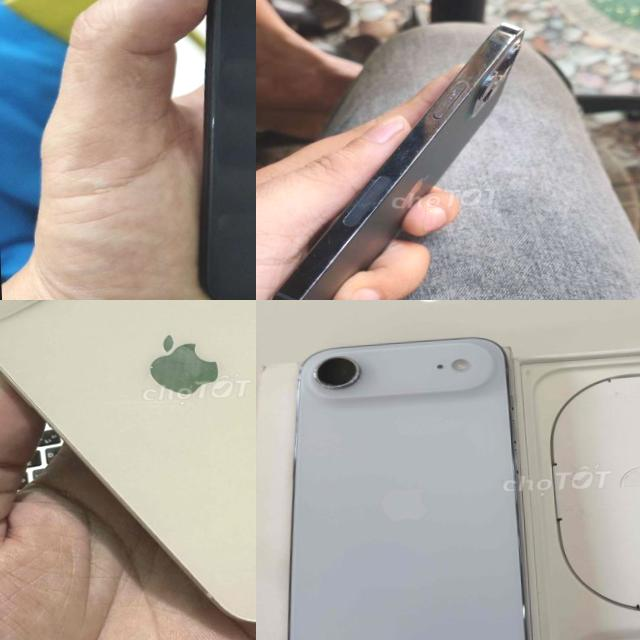scratch: (290, 38, 510, 246)
